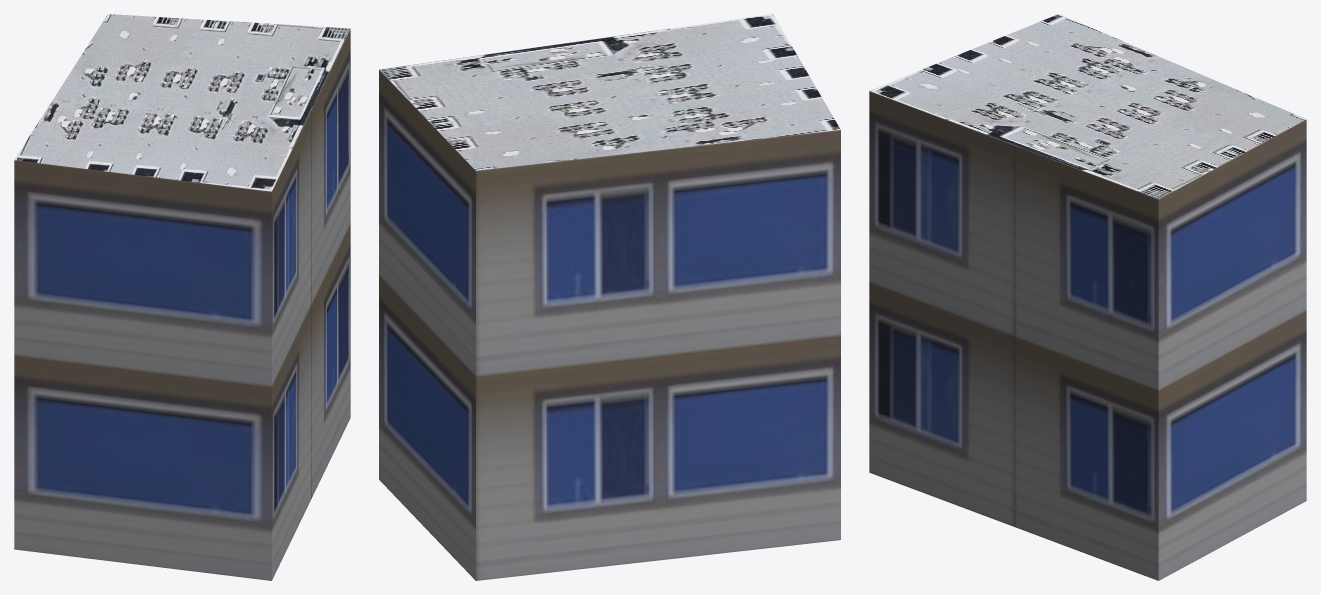
File: ResTex__1043.fbx
3 renders of one model, left to right at view 1: azimuth 30°, elevation 25°; view 2: azimuth 150°, elevation 25°; view 3: azimuth 270°, elevation 25°, orthographic. The views are drawn at different scales.
Parts seen in each view (by area): view 1: CityEngineMaterial_23_m, CityEngineMaterial_8_m; view 2: CityEngineMaterial_23_m, CityEngineMaterial_8_m; view 3: CityEngineMaterial_23_m, CityEngineMaterial_8_m.
Boxes of the visible parts, box(x1,y1,x2,y2) form: CityEngineMaterial_23_m: box(14, 29, 350, 580); CityEngineMaterial_8_m: box(14, 14, 350, 191); CityEngineMaterial_23_m: box(379, 70, 840, 580); CityEngineMaterial_8_m: box(379, 14, 840, 170); CityEngineMaterial_23_m: box(869, 91, 1306, 580); CityEngineMaterial_8_m: box(870, 14, 1306, 199).
Size of the model in its own units: 6.25 by 6 by 6.23.
Materials: 2 (2 with a texture image).
